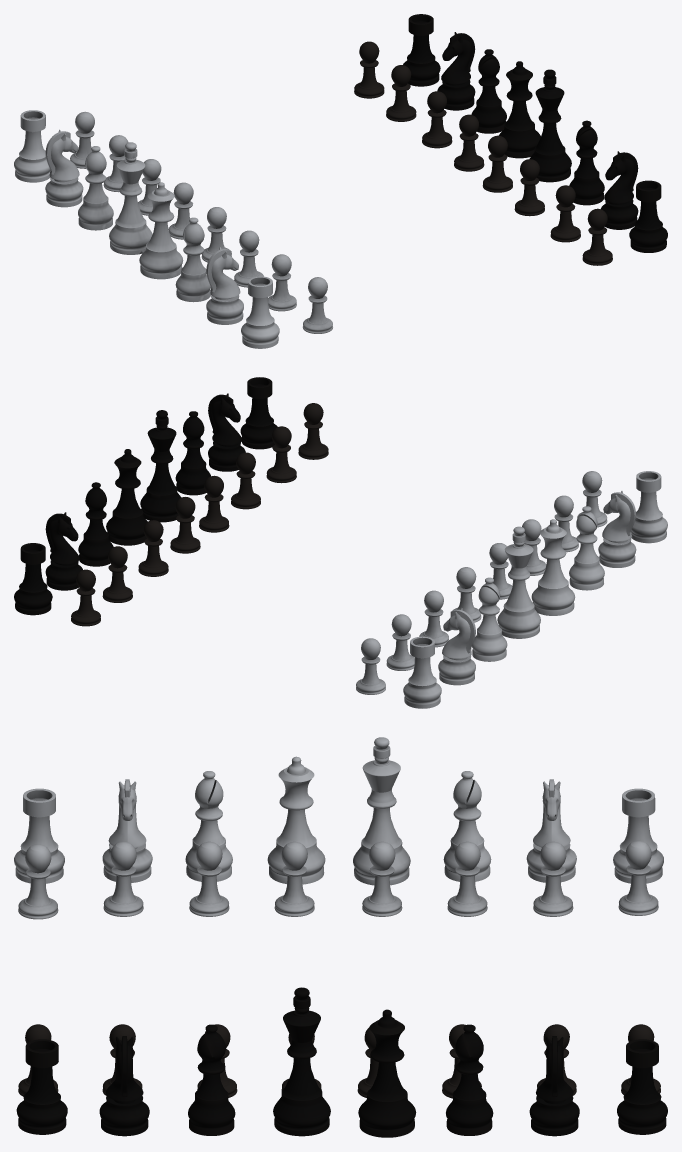
Rendered from chess.glb.
3 views of the same model, one above another, from view 1: azimuth 30°, elevation 25°; view 2: azimuth 150°, elevation 25°; view 3: azimuth 270°, elevation 25° (orthographic). The views are drawn at different scales.
Visible parts, largest first — view 1: chess_king_white, chess_king_black, chess_queen_white, chess_queen_black, chess_knight_white_b, chess_knight_white_a, chess_knight_black_b, chess_knight_black_a, chess_rook_black_b, chess_rook_white_b, chess_bishop_white_a, chess_bishop_white_b (+20 smaller); view 2: chess_king_white, chess_king_black, chess_queen_white, chess_queen_black, chess_knight_white_b, chess_knight_white_a, chess_knight_black_a, chess_knight_black_b, chess_rook_black_a, chess_rook_white_a, chess_bishop_white_b, chess_bishop_white_a (+20 smaller); view 3: chess_king_black, chess_queen_black, chess_king_white, chess_queen_white, chess_rook_black_b, chess_rook_black_a, chess_bishop_black_b, chess_bishop_black_a, chess_knight_black_a, chess_knight_black_b, chess_rook_white_b, chess_bishop_white_a (+17 smaller).
Boxes of the visible parts, box(x1,y1,x2,y2) form: chess_king_white: box(109, 142, 152, 254); chess_king_black: box(529, 69, 571, 182); chess_queen_white: box(139, 182, 183, 279); chess_queen_black: box(499, 61, 540, 158); chess_knight_white_b: box(45, 129, 83, 207); chess_knight_white_a: box(206, 247, 243, 324); chess_knight_black_b: box(601, 151, 638, 229); chess_knight_black_a: box(437, 32, 475, 110); chess_rook_black_b: box(629, 180, 667, 252); chess_rook_white_b: box(241, 276, 279, 348); chess_bishop_white_a: box(78, 146, 113, 230); chess_bishop_white_b: box(175, 217, 210, 302); chess_king_white: box(497, 526, 540, 638); chess_king_black: box(140, 410, 181, 522); chess_queen_white: box(531, 519, 575, 615); chess_queen_black: box(106, 449, 147, 545); chess_knight_white_b: box(438, 608, 475, 685); chess_knight_white_a: box(598, 491, 636, 567); chess_knight_black_a: box(45, 512, 82, 590); chess_knight_black_b: box(208, 393, 245, 471); chess_rook_black_a: box(14, 543, 52, 615); chess_rook_white_a: box(403, 636, 441, 708); chess_bishop_white_b: box(569, 506, 604, 590); chess_bishop_white_a: box(472, 577, 507, 661); chess_king_black: box(273, 987, 330, 1136); chess_queen_black: box(358, 1009, 416, 1137); chess_king_white: box(353, 737, 410, 885); chess_queen_white: box(267, 756, 325, 884); chess_rook_black_b: box(16, 1039, 67, 1134); chess_rook_black_a: box(617, 1039, 667, 1134); chess_bishop_black_b: box(188, 1024, 235, 1135); chess_bishop_black_a: box(446, 1024, 493, 1135); chess_knight_black_a: box(529, 1036, 579, 1136); chess_knight_black_b: box(99, 1036, 149, 1136); chess_rook_white_b: box(14, 788, 64, 883); chess_bishop_white_a: box(443, 771, 491, 881).
Size of the model in its own units: 0.4382 by 0.1 by 0.4366.
1 material, 1 textured.
